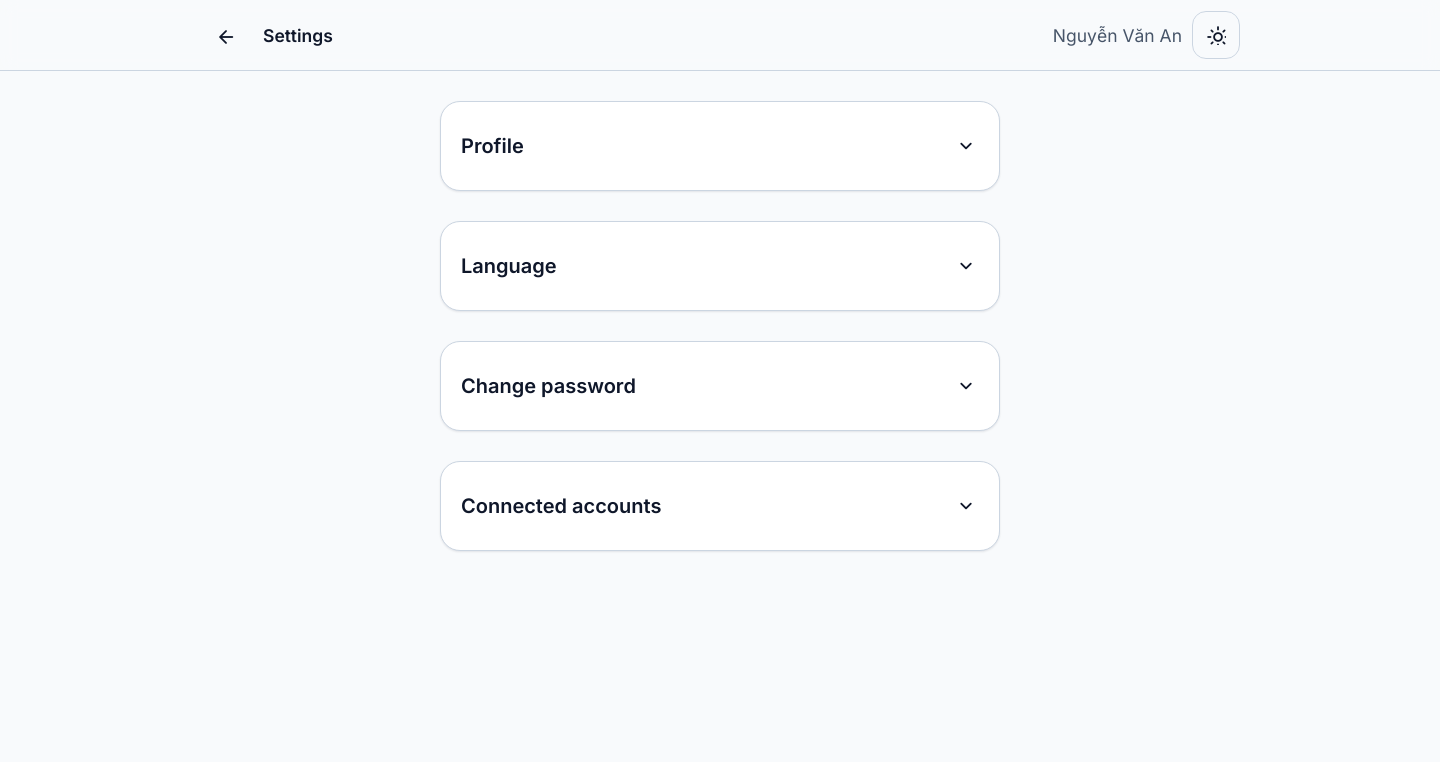
Scenario: SettingsPage teacher password change › shows an API error when the current password is incorrect
Click the button with aria-label "Change password settings": x=548, y=386 [461,362,979,410]
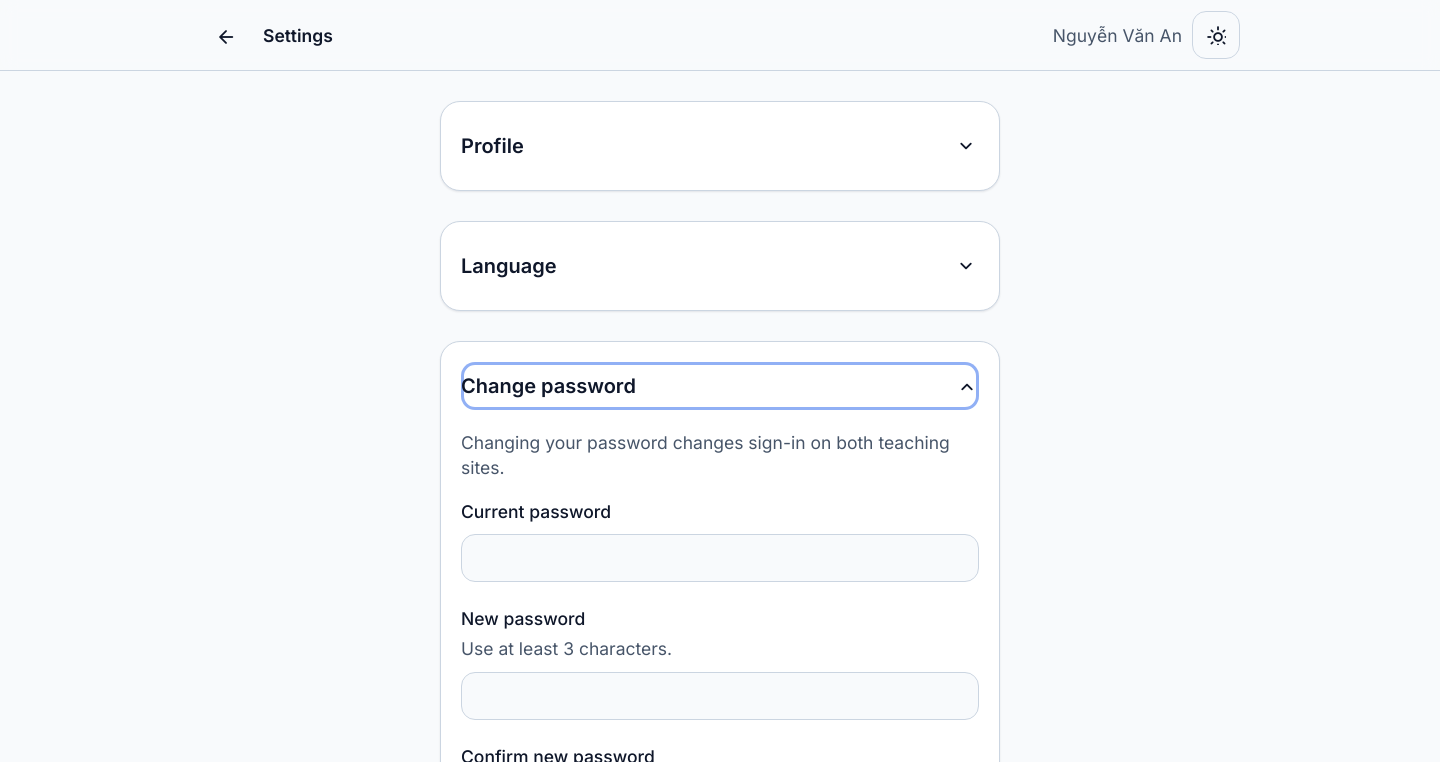
In the password field labelled "Current password": x=720, y=558 [461,534,979,582], type "wrong-password"
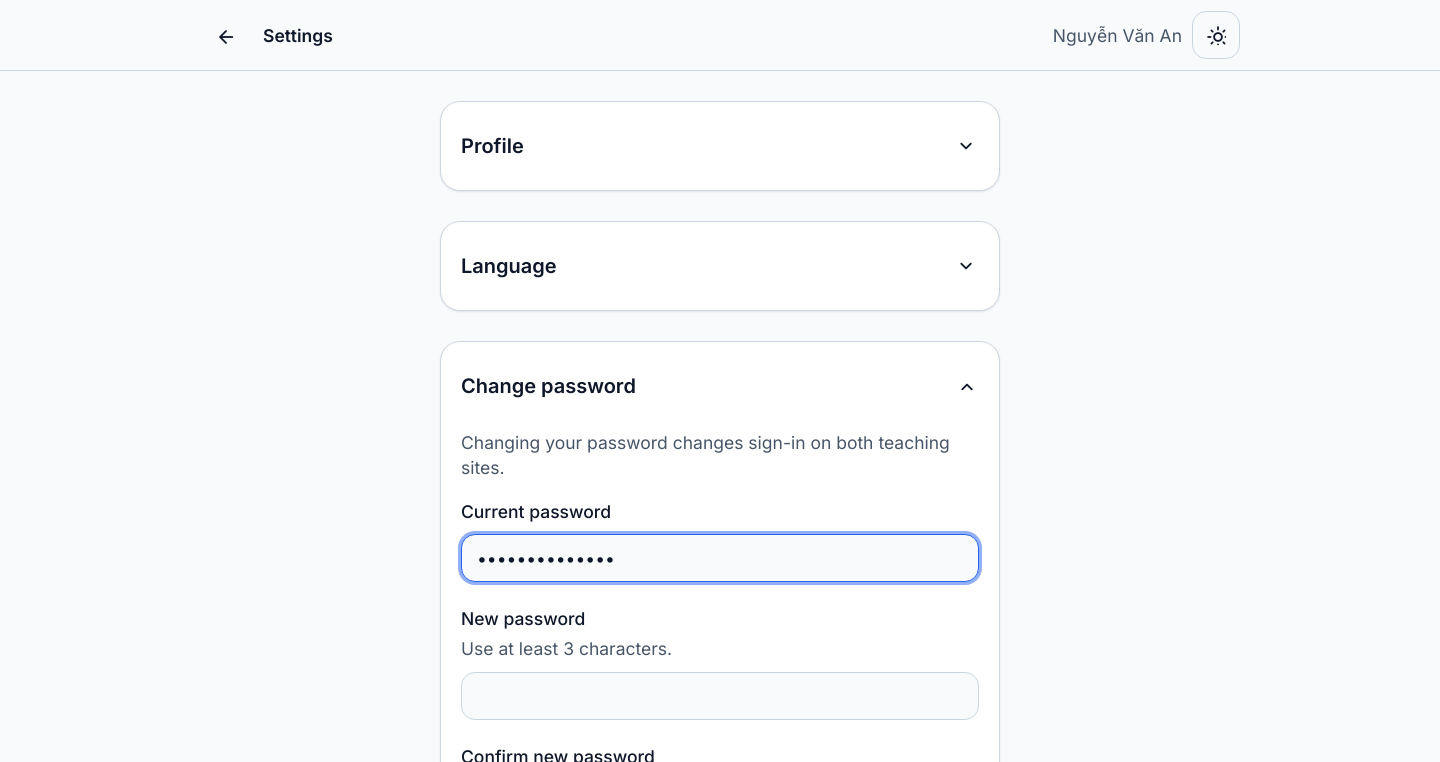
In the password field labelled "New password": x=720, y=696 [461,672,979,720], type "new-password"
(page scrolled)
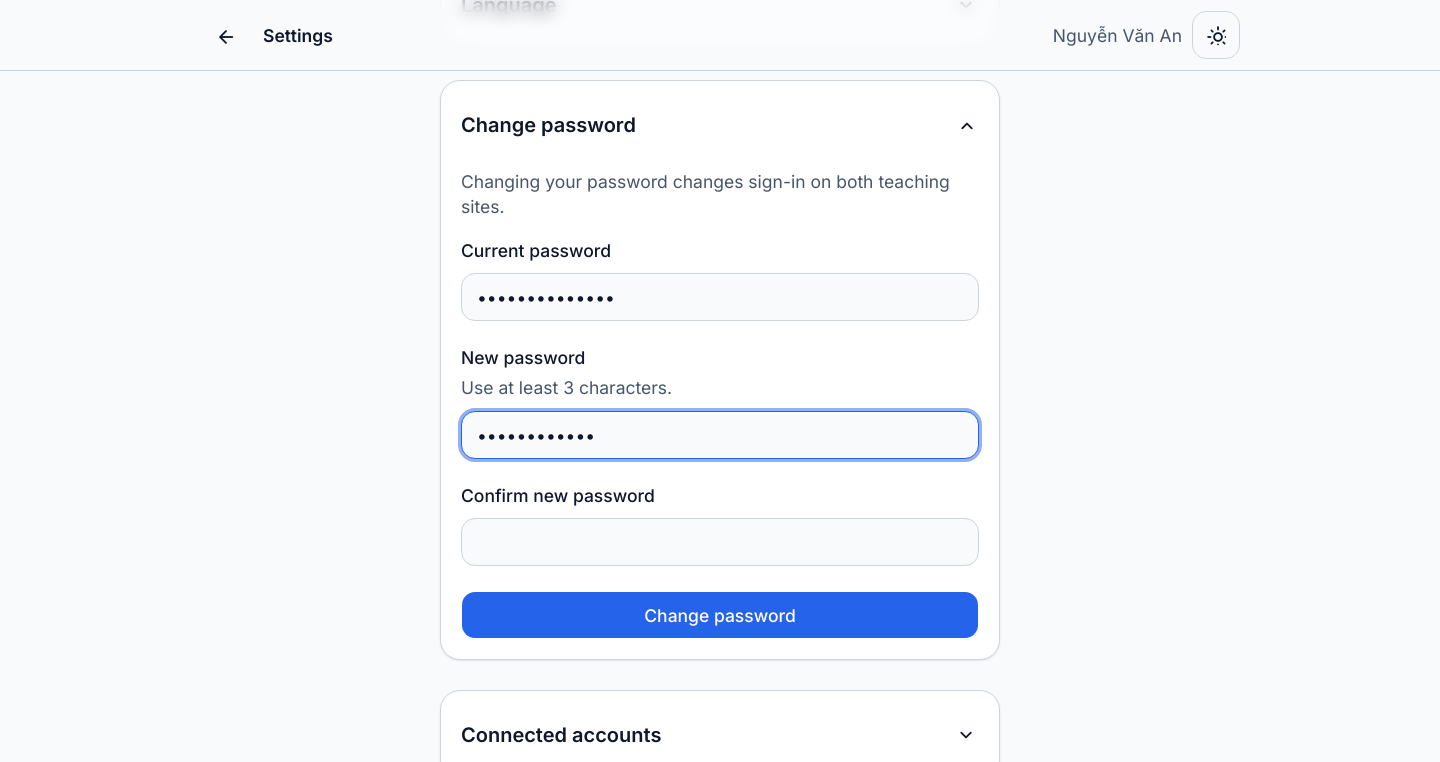
In the password field labelled "Confirm new password": x=720, y=542 [461,518,979,566], type "new-password"
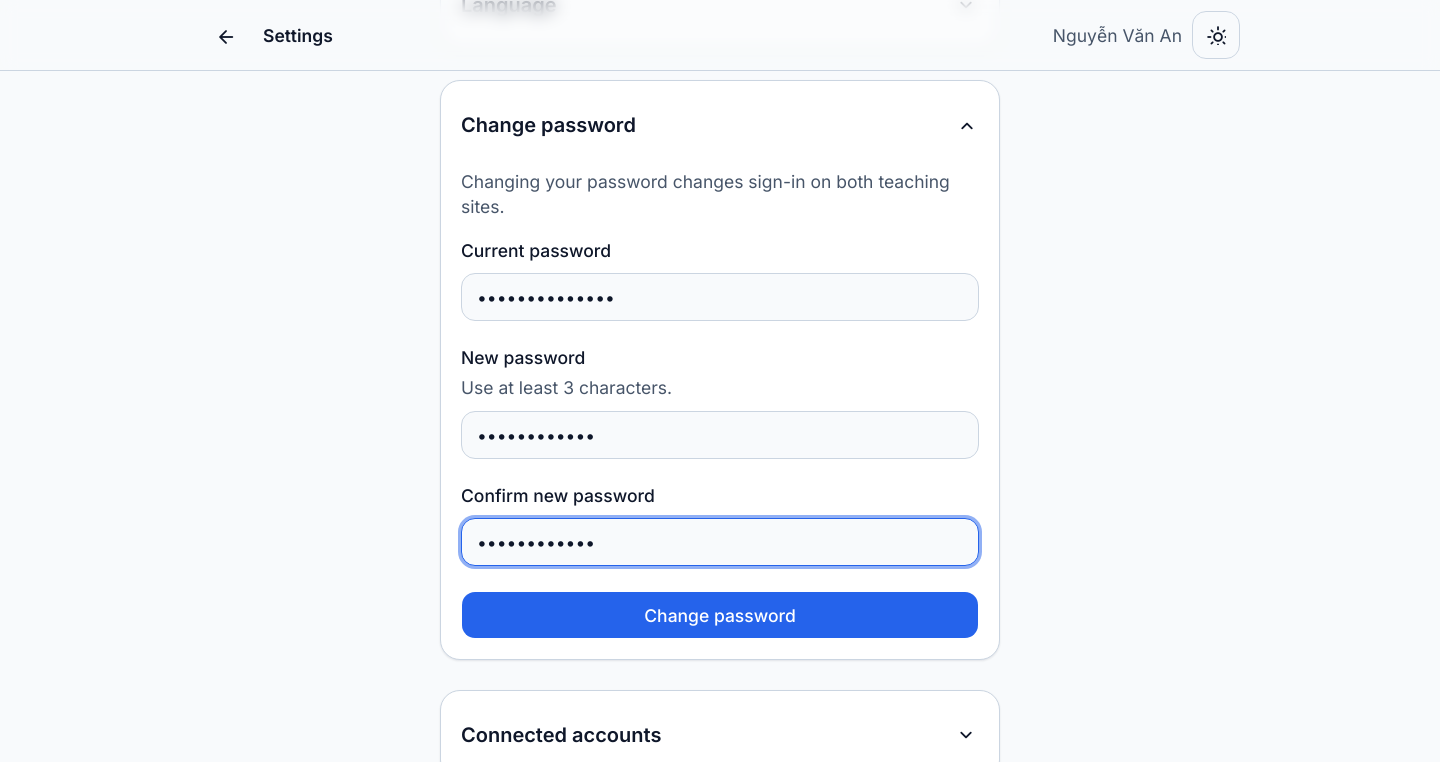
Click the button "Change password" below "Confirm new password": x=720, y=615 [461,591,979,639]
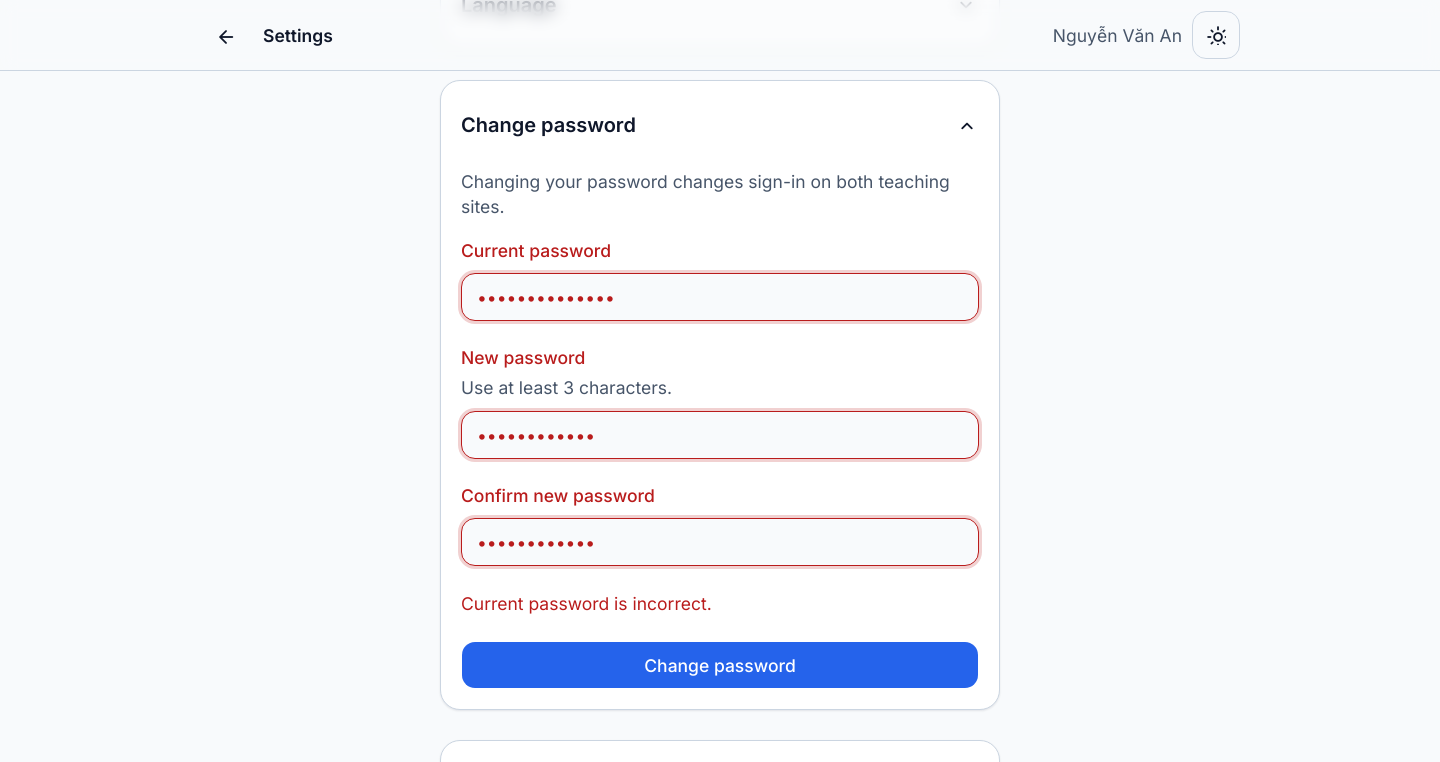
Result: the text "Current password is incorrect." is shown at [461,593,712,614]
